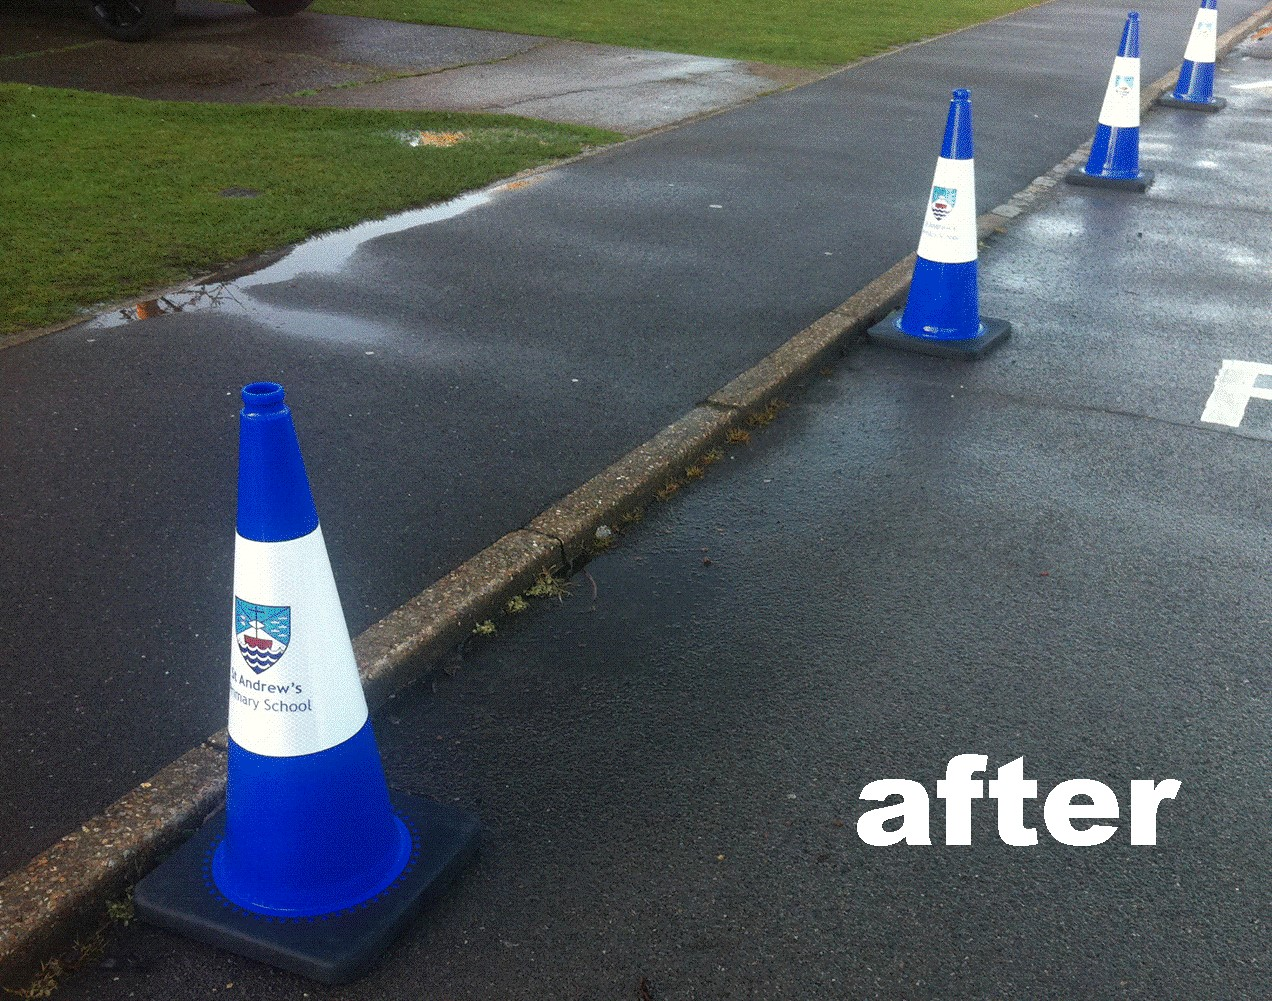cone: (112, 380, 504, 976), (866, 83, 1023, 359), (1070, 14, 1160, 195), (1150, 1, 1237, 119)
